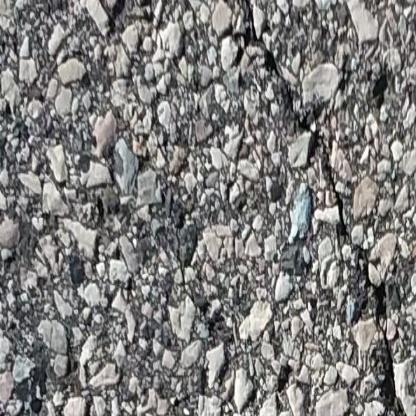Cracks: (242, 0, 414, 416)
